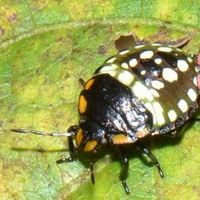insect: (60, 35, 199, 191), (143, 176, 199, 199)
